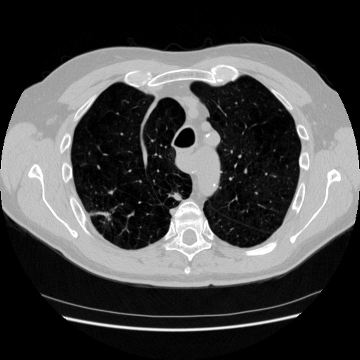nodule: (171, 189, 183, 201)
